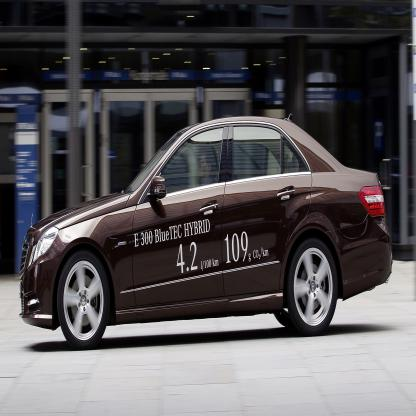Vehicle: (19, 114, 393, 351)
